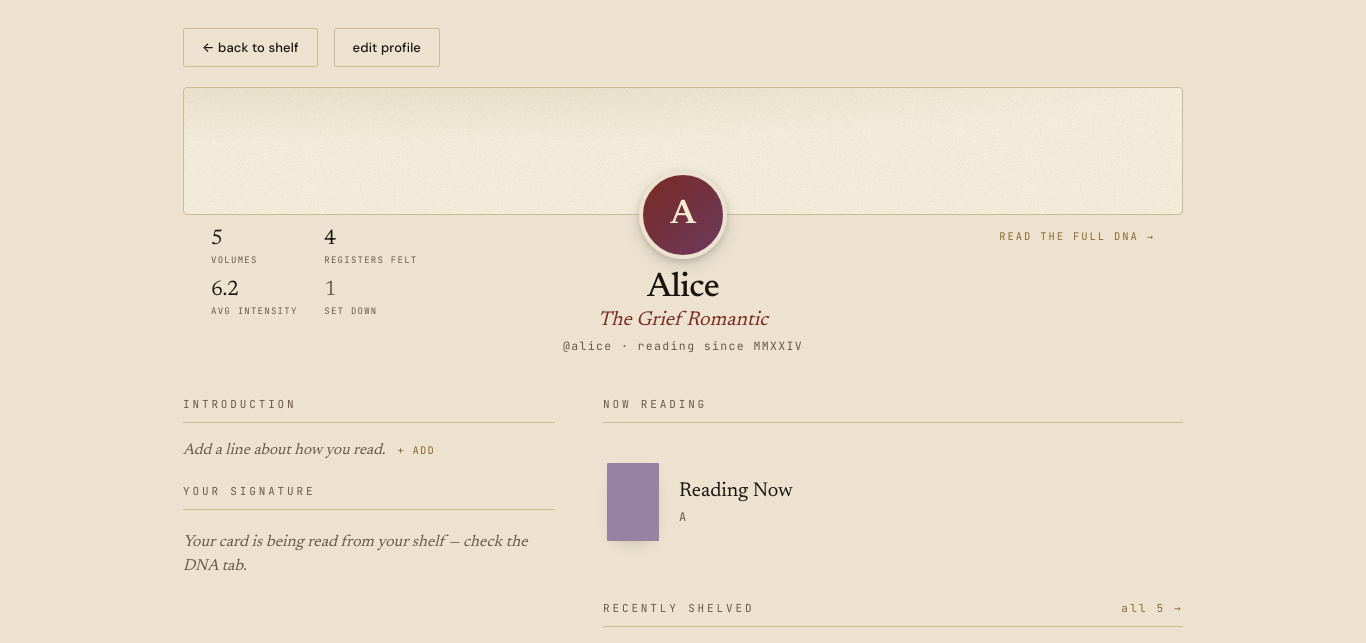
Test: ProfilePage self-view [F2.8] › edits the bio via inline editor
Expected: the heading "Alice" is shown, [647,271,719,306]
Click the button "+ add".
click(416, 450)  # box [397,443,435,457]
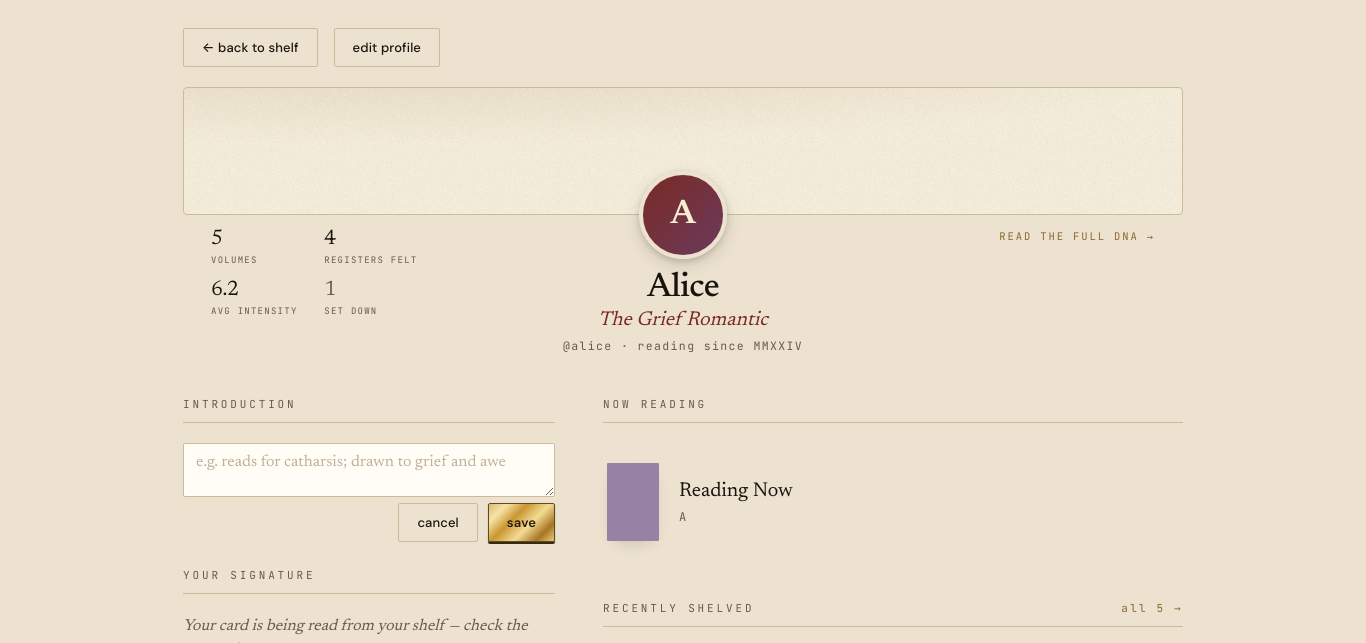
Type "reads for catharsis" into the text box named "your bio".
click(369, 470); type("reads for catharsis")  # box [183,443,555,497]
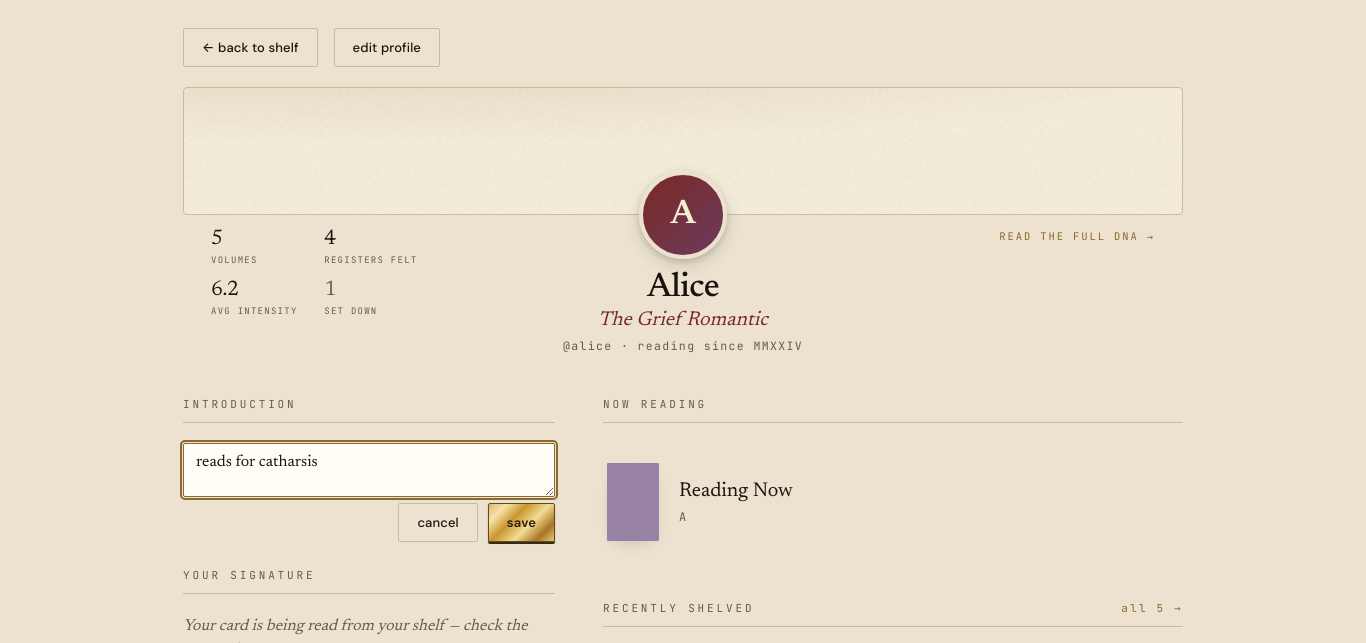
Click the button "save".
click(521, 523)  # box [488,503,555,542]
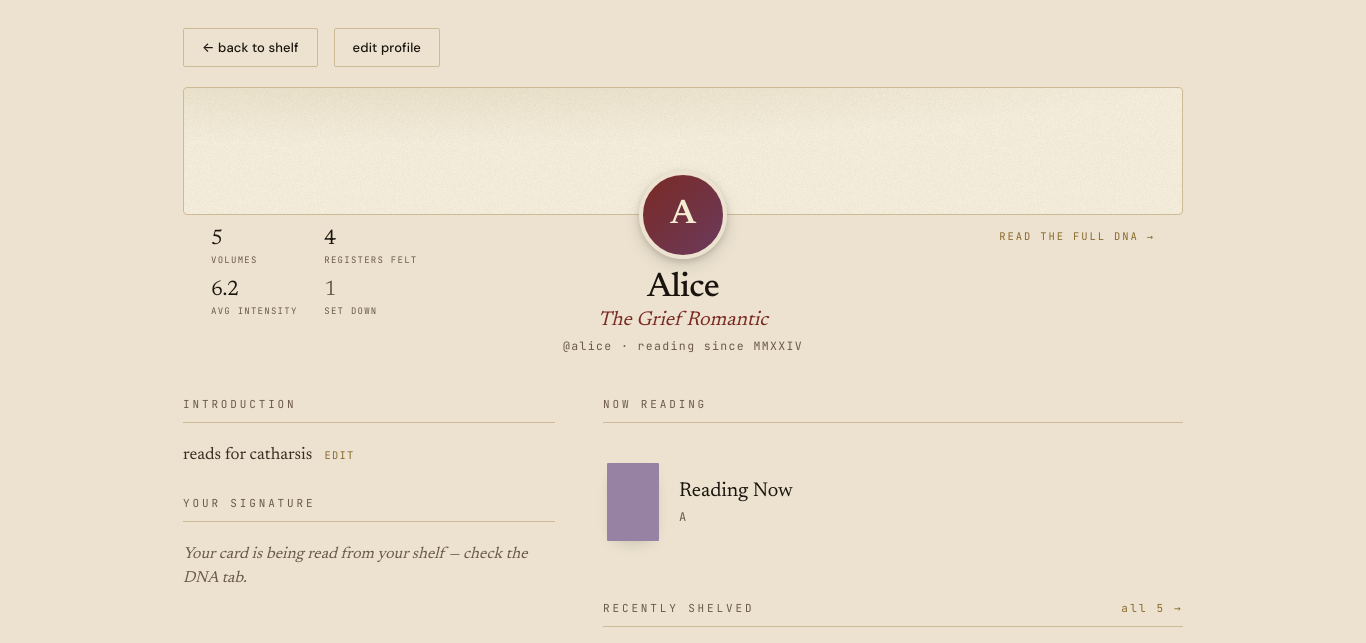
Expected: the text "reads for catharsis" is shown, [183,443,312,470]
